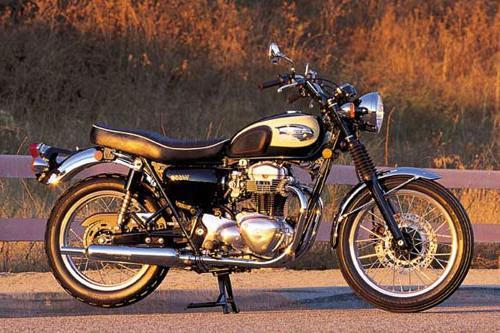motorcycle: (19, 44, 483, 321)
